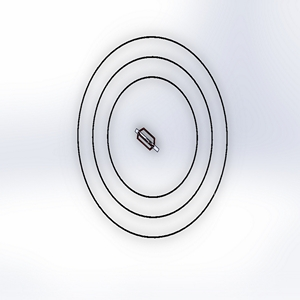circle: (70, 30, 235, 243)
submarine: (128, 122, 164, 159)
